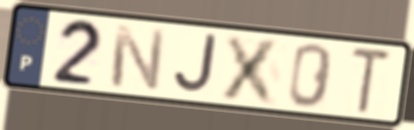0: (286, 41, 335, 110)
2: (47, 15, 108, 90)
J: (171, 32, 219, 97)
N: (107, 22, 168, 94)
T: (348, 44, 394, 116)
X: (217, 32, 287, 108)
